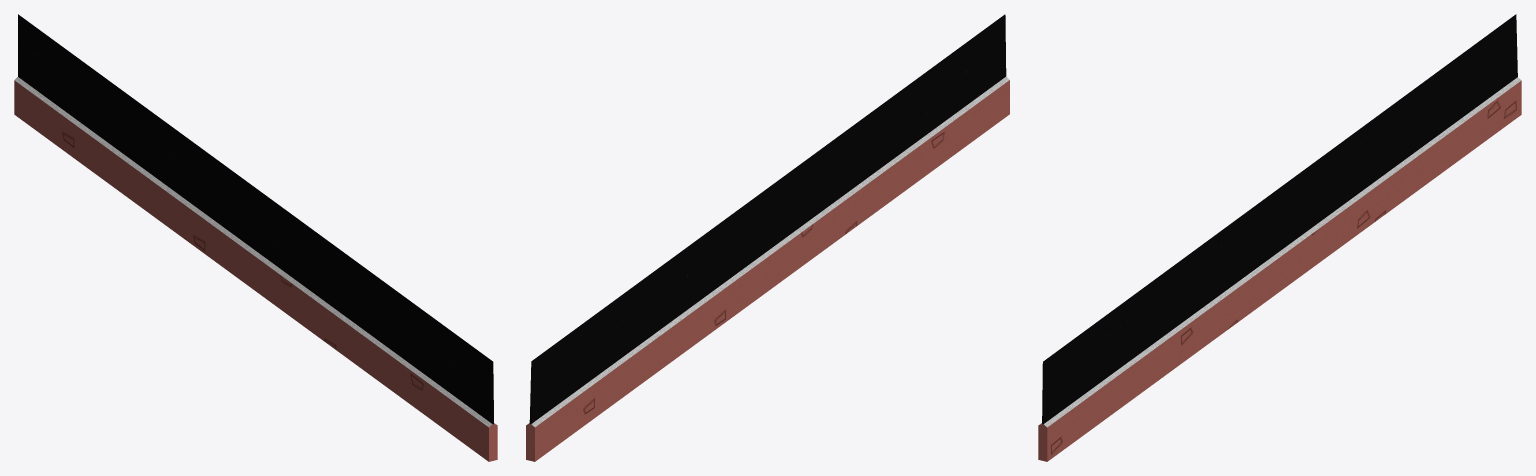
The model's file is SM_Fence.fbx.
3 renders of one model, left to right at view 1: azimuth 30°, elevation 25°; view 2: azimuth 150°, elevation 25°; view 3: azimuth 330°, elevation 25°, orthographic.
Visible parts, largest first — view 1: Fence; view 2: Fence; view 3: Fence.
Part boxes in pixels (x1=…): Fence: x1=14, y1=14, x2=497, y2=461; Fence: x1=526, y1=14, x2=1009, y2=461; Fence: x1=1038, y1=14, x2=1521, y2=461.
Size of the model in its own units: 28.08 by 301 by 2600.
